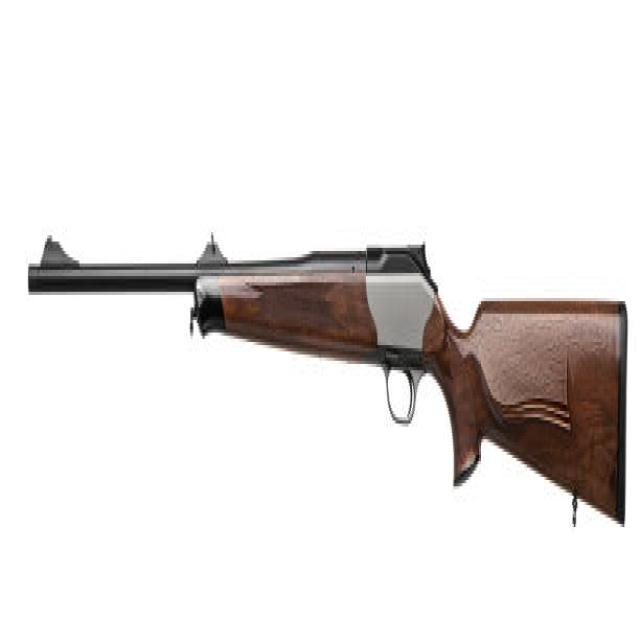rifle: (26, 219, 631, 546)
